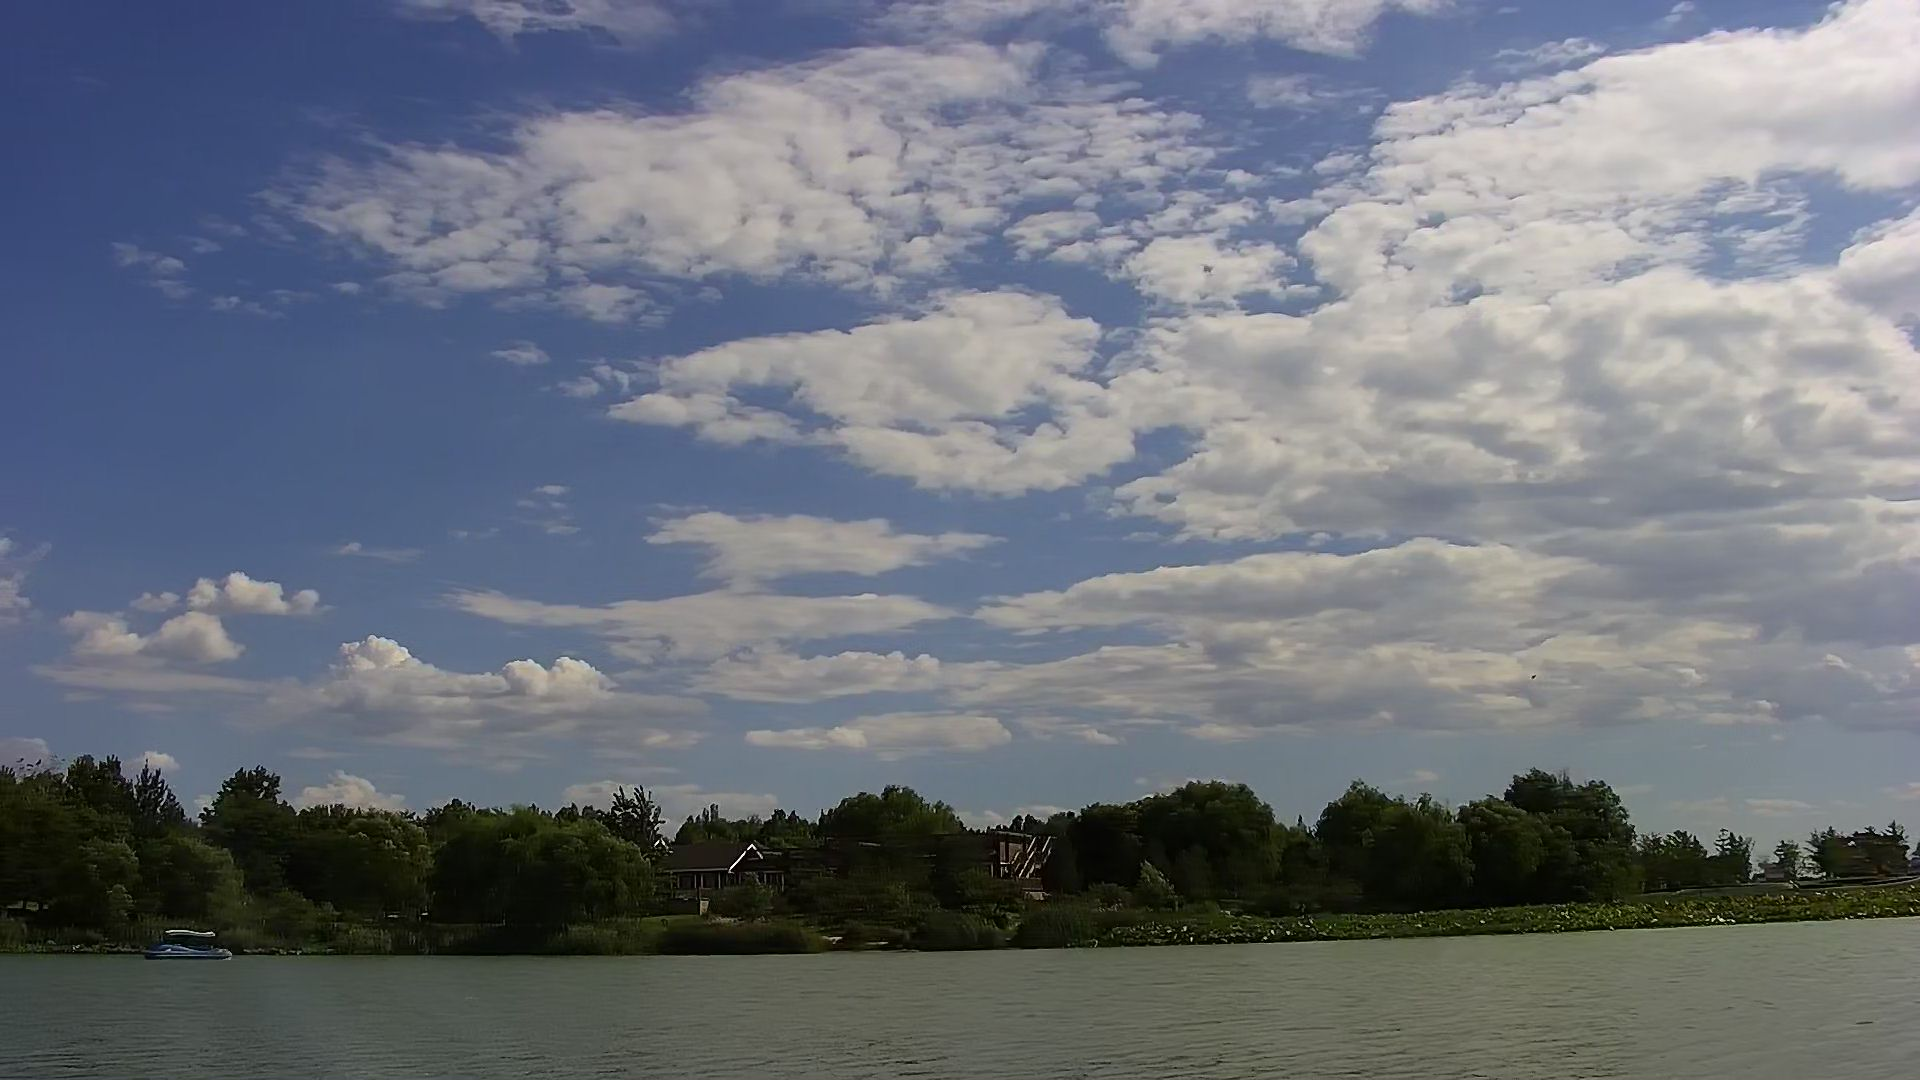boat: (146, 924, 233, 967)
